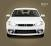car: (7, 6, 44, 36)
